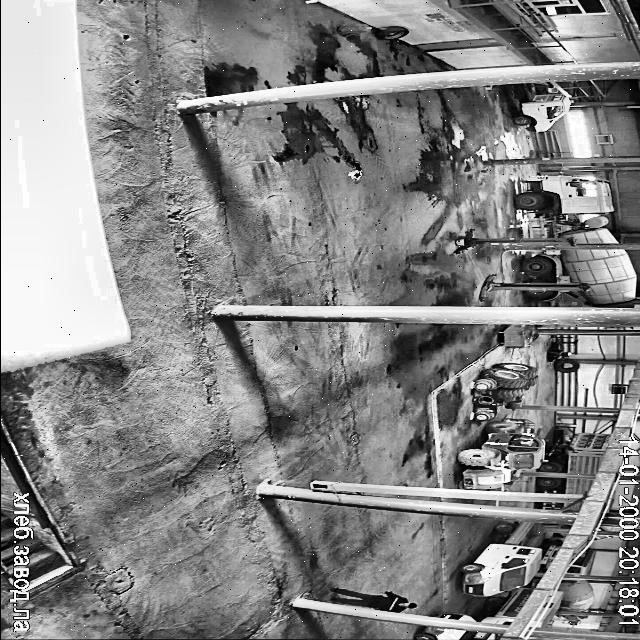car lift: (455, 229, 574, 253), (479, 274, 588, 300)
mechanic: (332, 588, 417, 612)
tractor: (458, 418, 544, 489), (473, 362, 537, 420)
truck: (516, 176, 616, 244), (523, 248, 636, 306), (460, 521, 540, 596), (539, 432, 611, 474), (515, 92, 571, 132), (487, 588, 532, 621), (414, 625, 498, 640), (558, 580, 594, 610), (537, 477, 592, 494), (538, 592, 563, 626), (541, 536, 563, 568), (567, 549, 595, 574), (439, 613, 476, 620), (564, 616, 587, 624), (543, 500, 563, 508), (572, 506, 578, 510)
